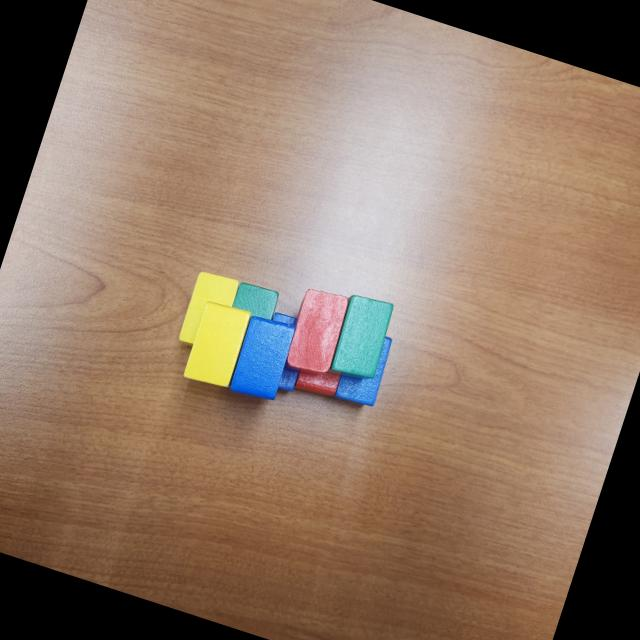blue: (226, 311, 299, 407), (332, 326, 396, 412), (252, 310, 316, 396)
green: (325, 289, 399, 388), (230, 280, 282, 322)
red: (280, 284, 354, 384), (292, 349, 346, 404)
yellow: (180, 300, 252, 391), (177, 268, 241, 354)
